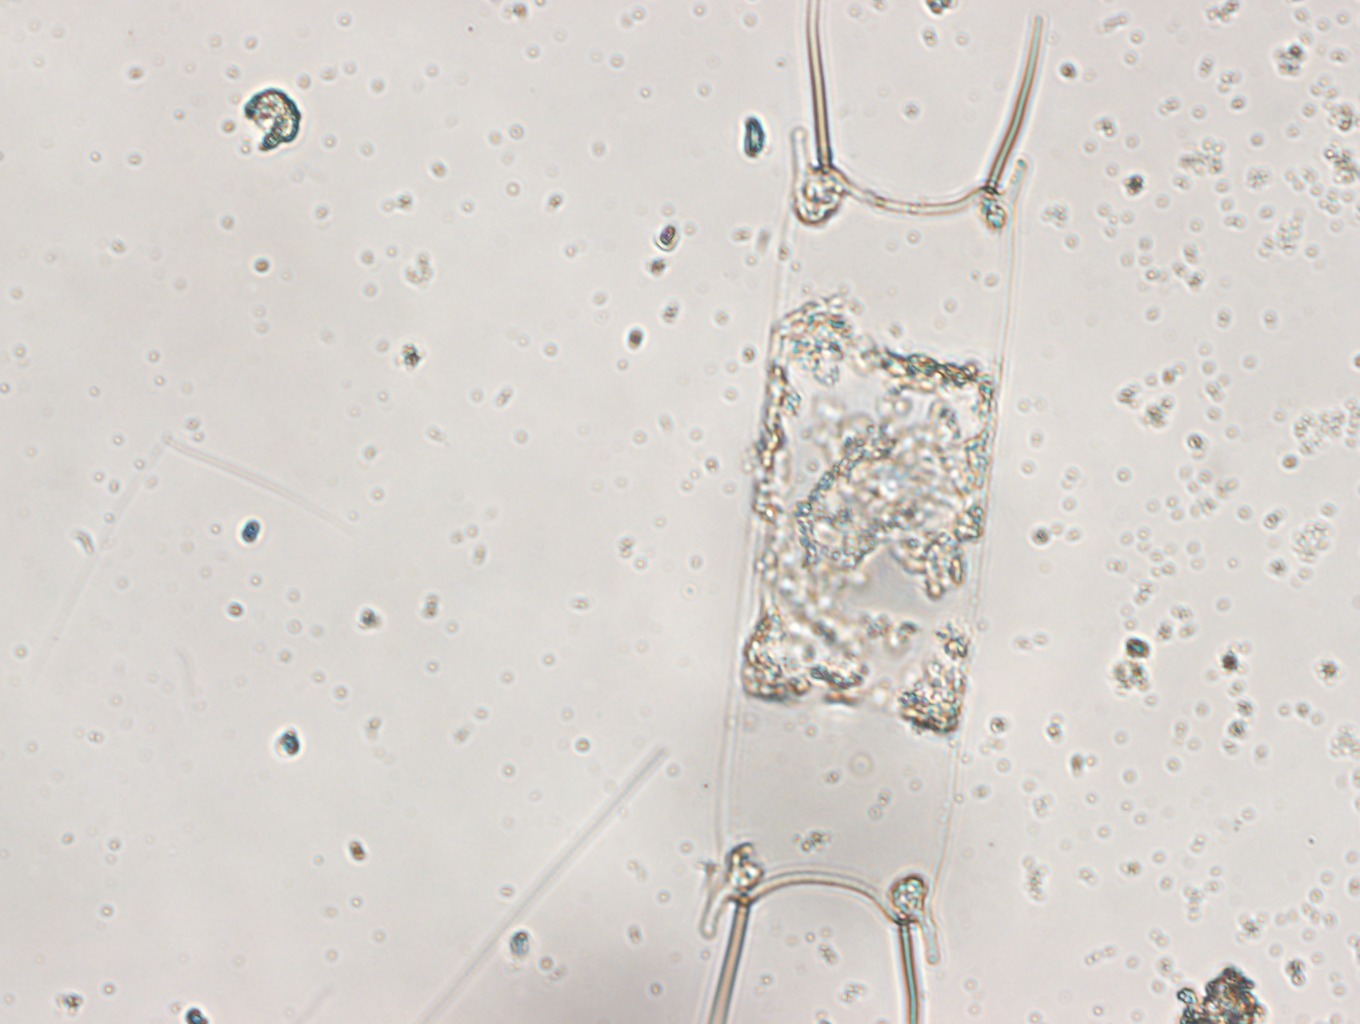biddulphia: (699, 1, 1050, 1024)
